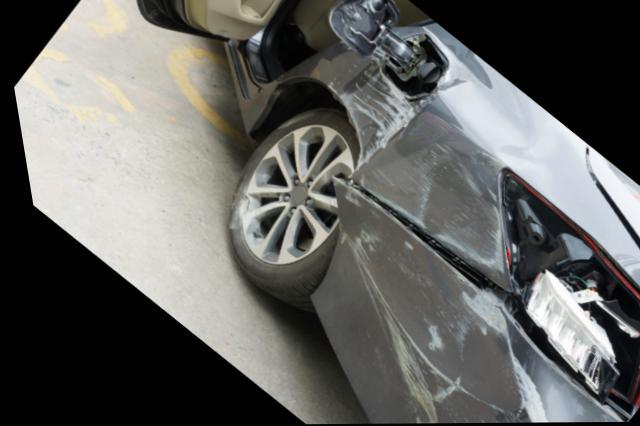dent: (428, 27, 533, 146), (328, 61, 424, 164)
lamp broken: (491, 168, 640, 422)
scratch: (333, 223, 537, 424), (351, 137, 502, 285)
